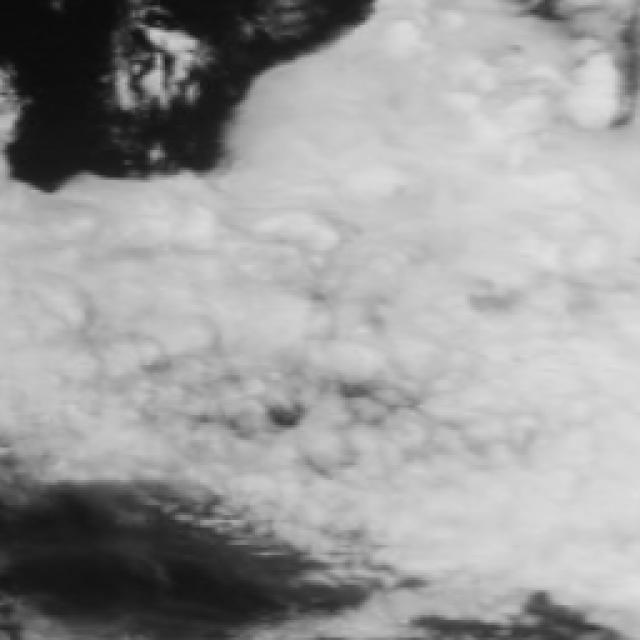CB: (389, 416, 640, 569), (362, 170, 524, 406), (0, 294, 208, 458), (182, 193, 386, 356), (281, 73, 489, 218), (497, 298, 640, 497), (1, 199, 204, 320), (507, 137, 640, 307)
